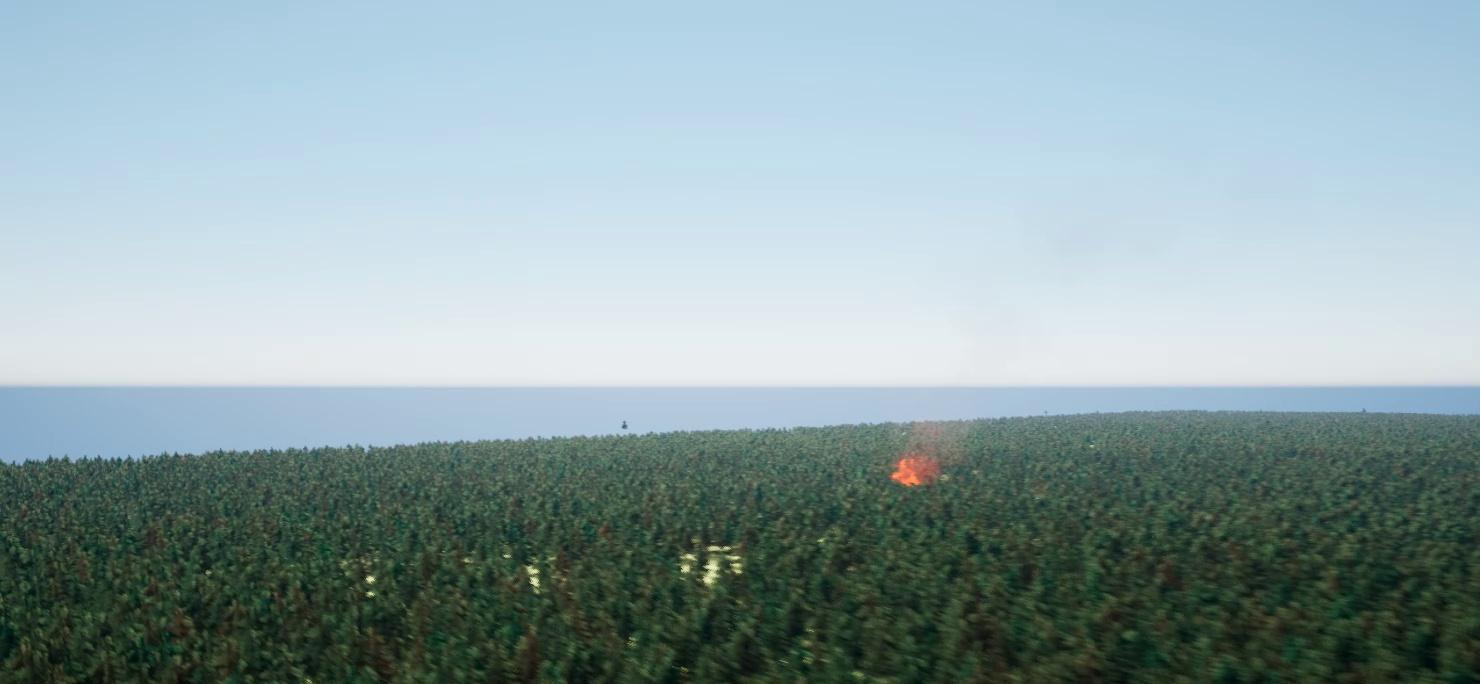fire: (892, 456, 933, 484)
